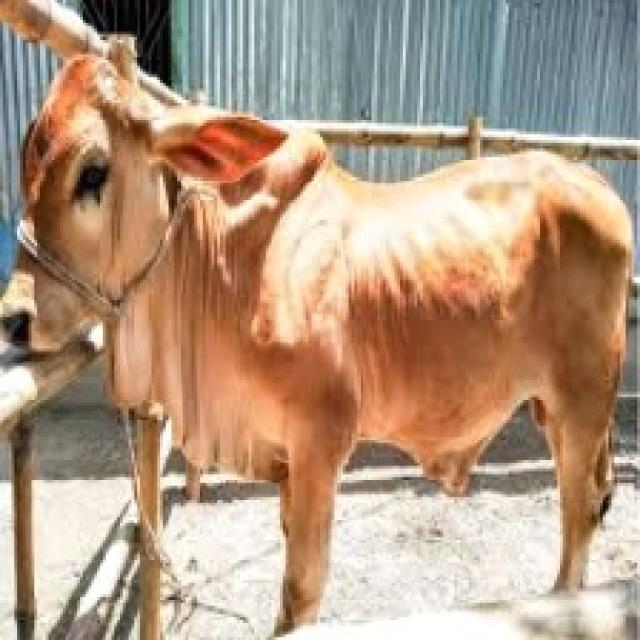bear: (22, 42, 627, 620)
